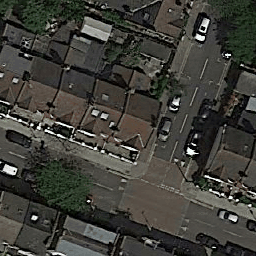car: (6, 129, 33, 150), (184, 130, 204, 157), (193, 15, 211, 44), (216, 208, 240, 226), (157, 117, 173, 143), (196, 230, 219, 248), (1, 160, 19, 178), (168, 92, 182, 114), (198, 105, 212, 125), (224, 244, 247, 256)
